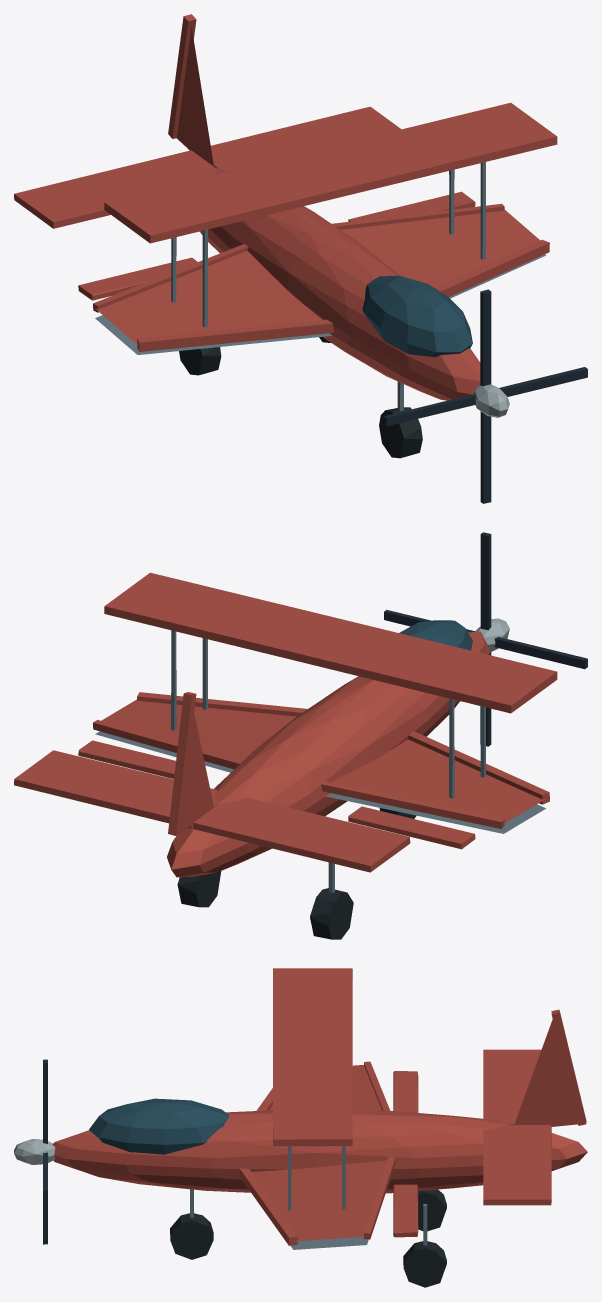
The model's file is aircraft-biplane.lod1.glb.
3 views of the same model, one above another, from view 1: azimuth 30°, elevation 25°; view 2: azimuth 150°, elevation 25°; view 3: azimuth 270°, elevation 25° (orthographic). The views are drawn at different scales.
Parts seen in each view (by area): view 1: aircraft-biplane__body, aircraft-biplane__propeller_0, aircraft-biplane__gear_0, aircraft-biplane__aileron_-1, aircraft-biplane__aileron_1, aircraft-biplane__gear_-0p85; view 2: aircraft-biplane__body, aircraft-biplane__propeller_0, aircraft-biplane__aileron_-1, aircraft-biplane__gear_-0p85, aircraft-biplane__aileron_1, aircraft-biplane__gear_0p85; view 3: aircraft-biplane__body, aircraft-biplane__gear_0p85, aircraft-biplane__gear_0, aircraft-biplane__propeller_0, aircraft-biplane__aileron_1, aircraft-biplane__aileron_-1, aircraft-biplane__gear_-0p85.
Boxes of the visible parts, x1,y1,x2,y2 form: aircraft-biplane__body: [14, 14, 557, 400]; aircraft-biplane__propeller_0: [384, 289, 587, 503]; aircraft-biplane__gear_0: [379, 381, 422, 458]; aircraft-biplane__aileron_-1: [78, 257, 197, 300]; aircraft-biplane__aileron_1: [348, 191, 475, 221]; aircraft-biplane__gear_-0p85: [179, 347, 221, 375]; aircraft-biplane__body: [14, 572, 557, 877]; aircraft-biplane__propeller_0: [384, 532, 587, 746]; aircraft-biplane__aileron_-1: [348, 806, 475, 849]; aircraft-biplane__gear_-0p85: [310, 862, 353, 939]; aircraft-biplane__aileron_1: [78, 740, 175, 778]; aircraft-biplane__gear_0p85: [177, 871, 221, 907]; aircraft-biplane__body: [52, 968, 587, 1249]; aircraft-biplane__gear_0p85: [403, 1204, 446, 1287]; aircraft-biplane__gear_0: [170, 1189, 213, 1259]; aircraft-biplane__propeller_0: [14, 1059, 55, 1244]; aircraft-biplane__aileron_1: [393, 1184, 418, 1237]; aircraft-biplane__aileron_-1: [393, 1071, 418, 1112]; aircraft-biplane__gear_-0p85: [418, 1189, 446, 1231].
Bounding box in the file's own units: 5.27 × 3.49 × 7.41.
